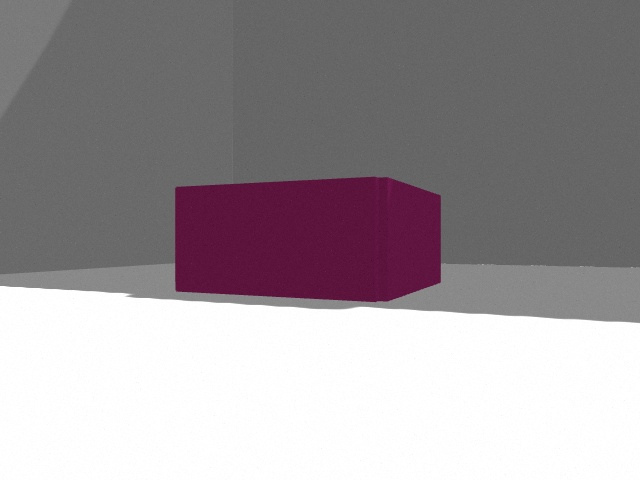red_drop_zone: (175, 177, 441, 302)
